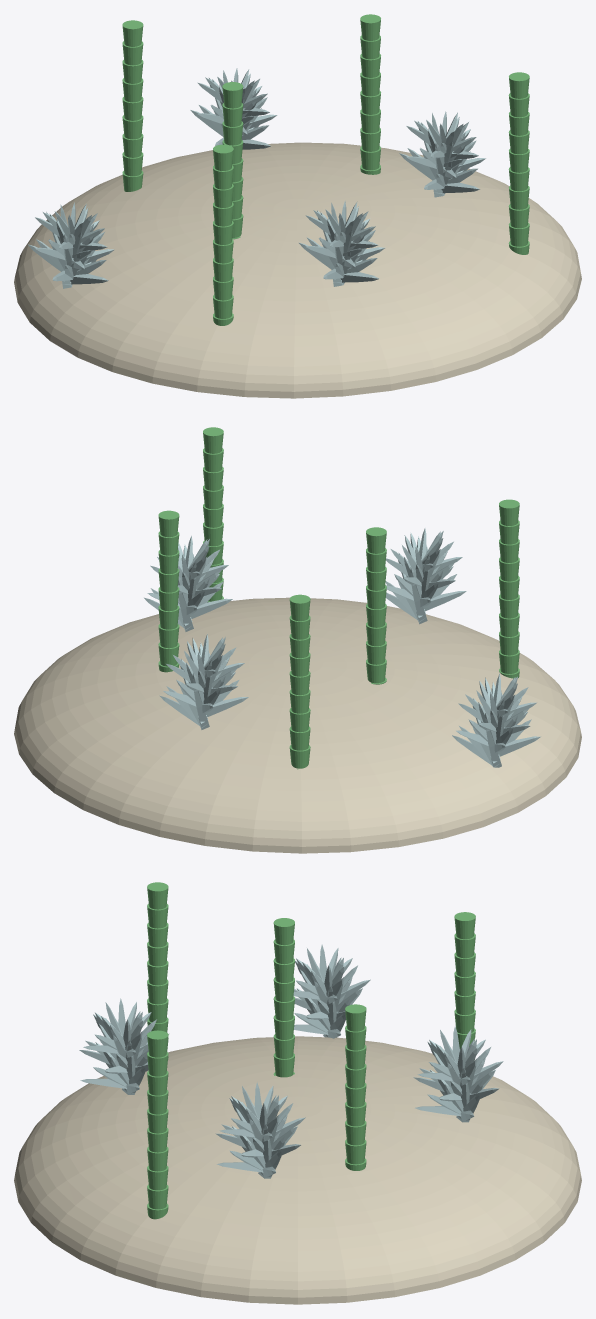
The model's file is project153.glb.
The picture shows the model from 3 angles, top to bottom: view 1: azimuth 30°, elevation 25°; view 2: azimuth 150°, elevation 25°; view 3: azimuth 270°, elevation 25°; orthographic projection. The views are drawn at different scales.
Visible parts, largest first — view 1: Mesh_Mesh_head_geo.001_lambert2SG.001; view 2: Mesh_Mesh_head_geo.001_lambert2SG.001; view 3: Mesh_Mesh_head_geo.001_lambert2SG.001.
Part boxes in pixels (box(x1,y1,x2,y2)): Mesh_Mesh_head_geo.001_lambert2SG.001: box(14, 14, 581, 398); Mesh_Mesh_head_geo.001_lambert2SG.001: box(14, 427, 581, 853); Mesh_Mesh_head_geo.001_lambert2SG.001: box(14, 882, 581, 1304).
Bounding box in the file's own units: 181 × 75.5 × 175.
